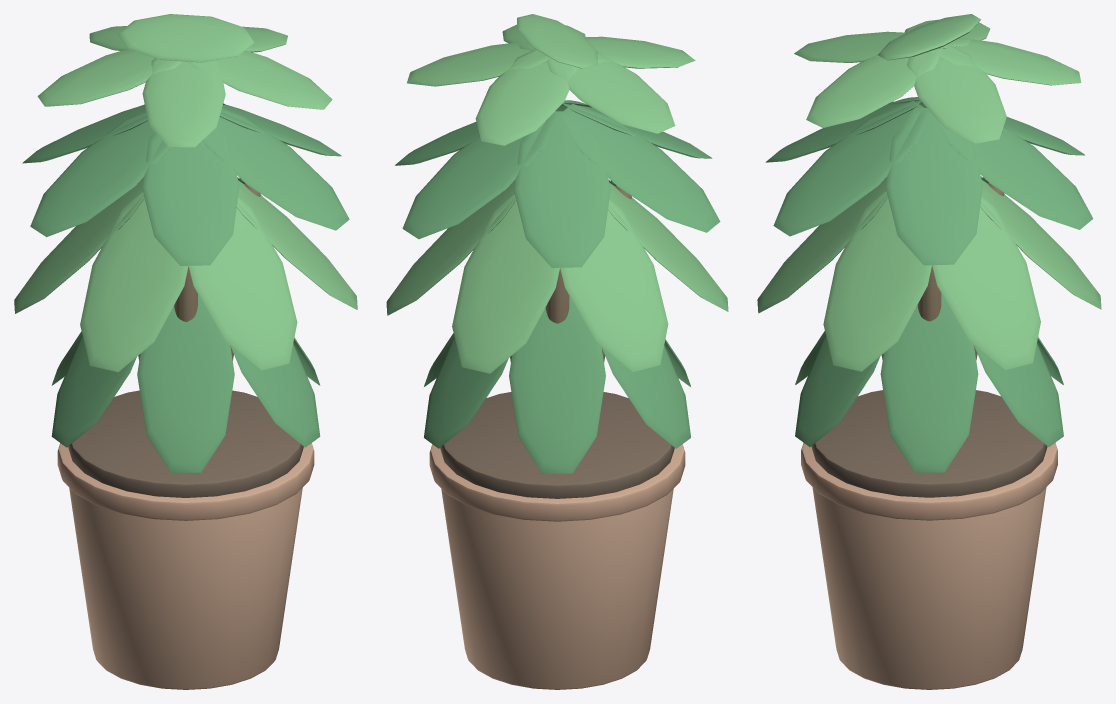
Rendered from th11_pflanzkuebel_innen.glb.
3 views of the same model, side by side, from view 1: azimuth 30°, elevation 25°; view 2: azimuth 150°, elevation 25°; view 3: azimuth 270°, elevation 25° (orthographic).
Visible parts, largest first — view 1: Cone, Cylinder.001, Sphere.004, Sphere.009, Sphere.010, Sphere.015, Sphere.014, Sphere.016, Cylinder, Sphere.020, Sphere.023, Sphere.008 (+10 smaller); view 2: Cone, Cylinder.001, Sphere.002, Sphere.007, Sphere.013, Sphere.008, Sphere.014, Sphere.012, Cylinder, Sphere.018, Sphere.019, Sphere.006 (+9 smaller); view 3: Cone, Cylinder.001, Sphere, Sphere.011, Sphere.017, Sphere.006, Sphere.016, Cylinder, Sphere.012, Sphere.022, Sphere.021, Sphere.010 (+10 smaller).
Boxes of the visible parts, x1,y1,x2,y2 form: Cone: (69, 487, 302, 689); Cylinder.001: (68, 390, 303, 497); Sphere.004: (137, 294, 234, 472); Sphere.009: (80, 192, 188, 372); Sphere.010: (188, 197, 297, 370); Sphere.015: (142, 126, 239, 265); Sphere.014: (30, 111, 170, 237); Sphere.016: (202, 108, 349, 230); Cylinder: (57, 443, 314, 520); Sphere.020: (142, 58, 225, 147); Sphere.023: (118, 14, 253, 62); Sphere.008: (14, 177, 144, 313); Cone: (441, 489, 673, 689); Cylinder.001: (440, 392, 674, 498); Sphere.002: (509, 296, 605, 473); Sphere.007: (452, 194, 559, 373); Sphere.013: (514, 111, 610, 267); Sphere.008: (560, 200, 668, 371); Sphere.014: (559, 103, 720, 232); Sphere.012: (402, 112, 557, 239); Cylinder: (429, 444, 685, 521); Sphere.018: (475, 49, 578, 145); Sphere.019: (544, 52, 675, 133); Sphere.006: (386, 180, 516, 315); Cone: (812, 487, 1046, 689); Cylinder.001: (811, 390, 1047, 497); Sphere: (880, 293, 978, 472); Sphere.011: (823, 191, 931, 371); Sphere.017: (885, 108, 982, 265); Sphere.006: (932, 197, 1040, 370); Sphere.016: (773, 101, 929, 236); Cylinder: (801, 442, 1057, 520); Sphere.012: (932, 114, 1093, 229); Sphere.022: (907, 45, 1006, 143); Sphere.021: (806, 46, 943, 127); Sphere.010: (757, 177, 887, 313).
Size of the model in its own units: 0.9912 by 1.93 by 0.9644.
